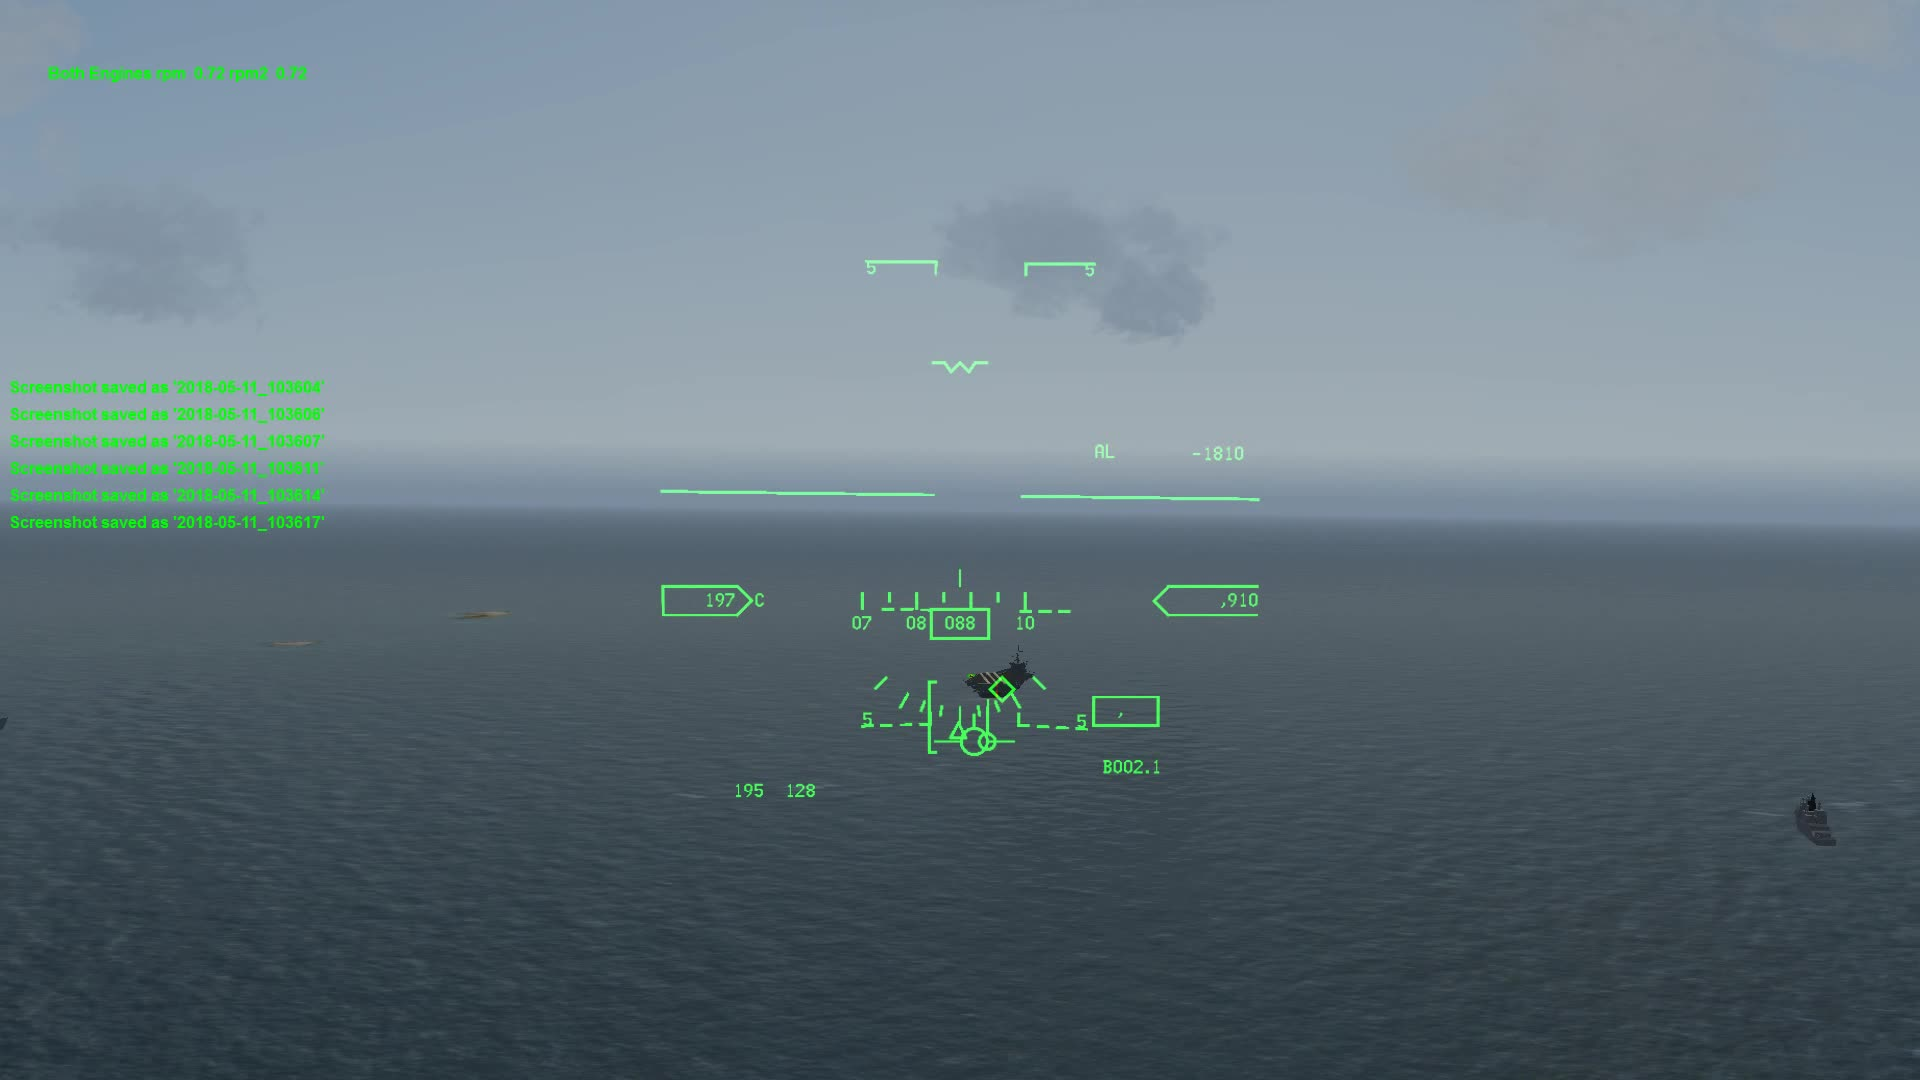speed vector: (934, 723, 1011, 756)
